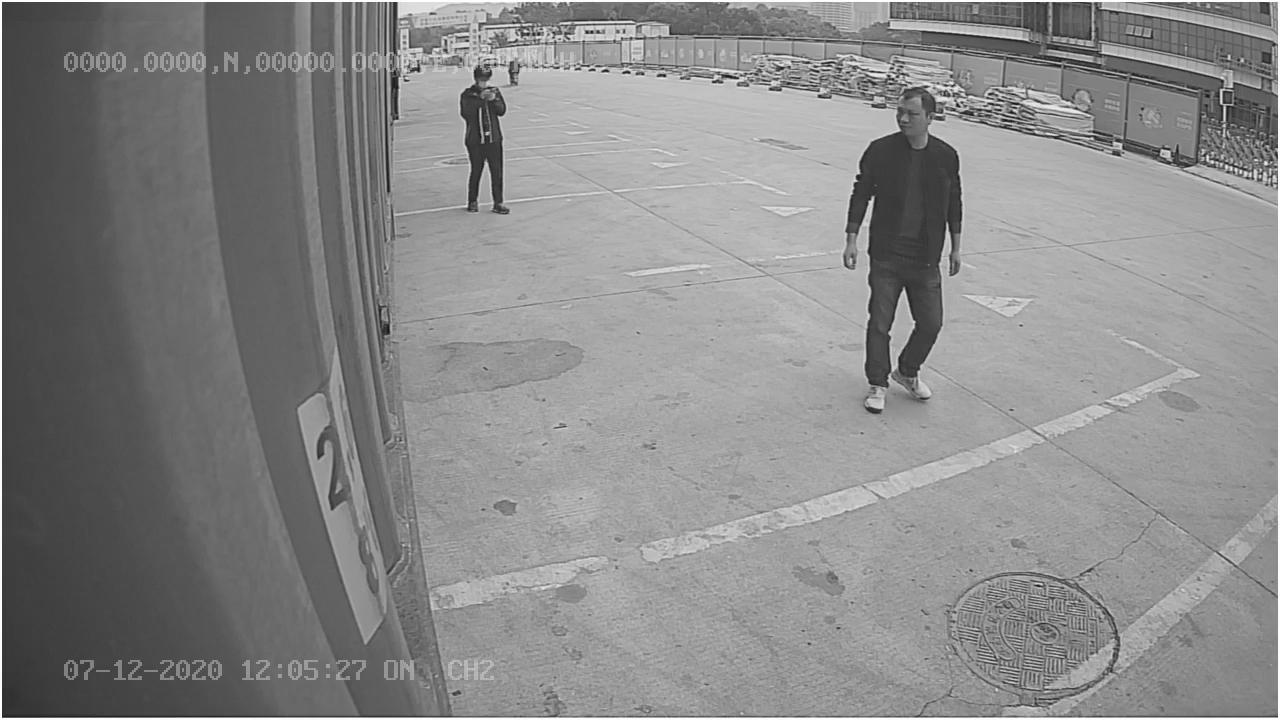person: (835, 84, 970, 414)
